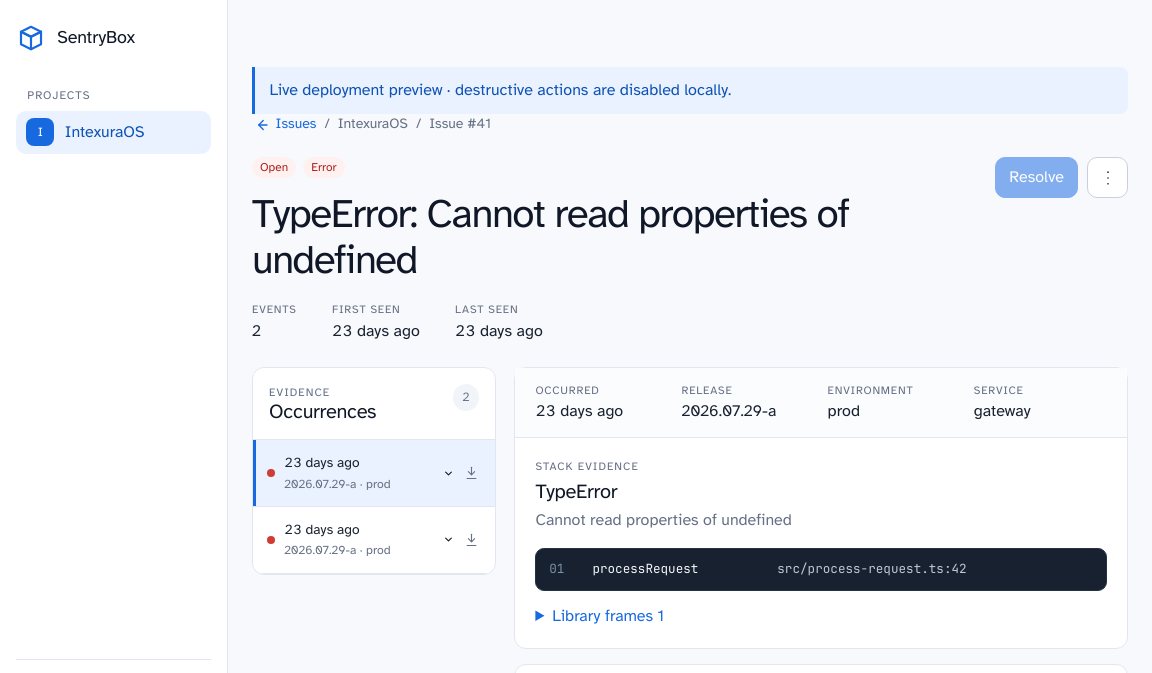
project-scoped issue detail › makes live local data explicitly read-only
Expected: the heading "TypeError: Cannot read properties of undefined" is shown, [252, 191, 931, 284]
Expected: the text "Live deployment preview · destructive actions are disabled locally." is shown, [252, 67, 1128, 114]
Click the heading named "More issue actions" at (1108, 178), box [1087, 157, 1128, 198]
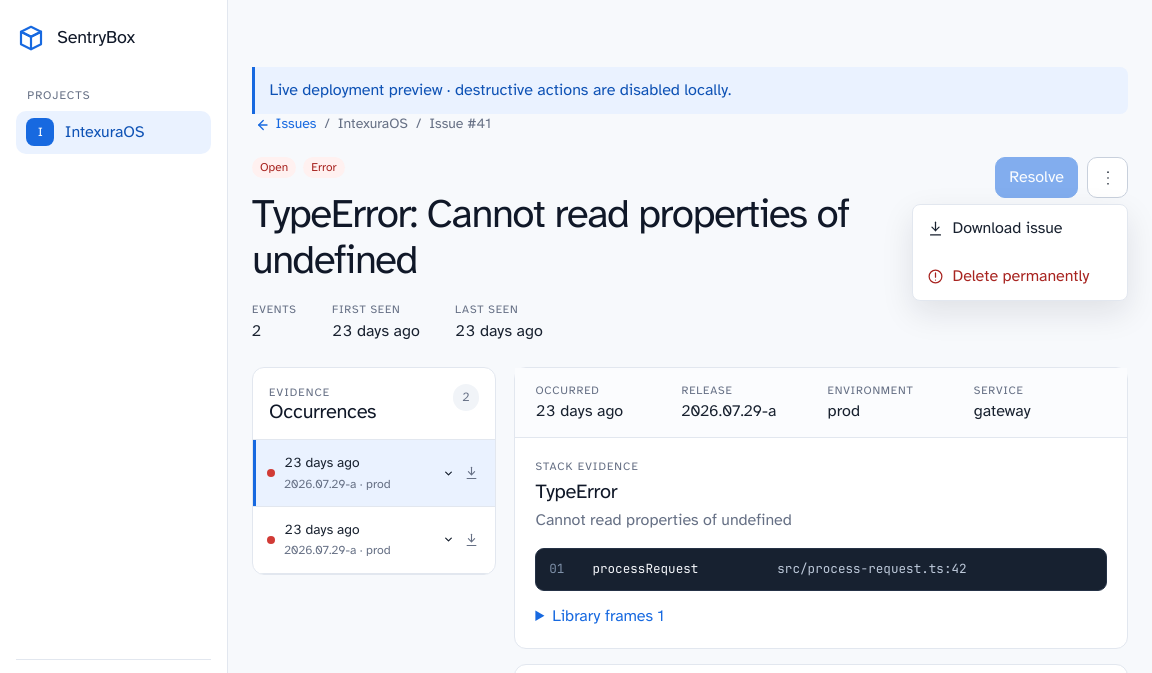
Expected: the button "Delete permanently" is disabled, [913, 252, 1127, 300]
